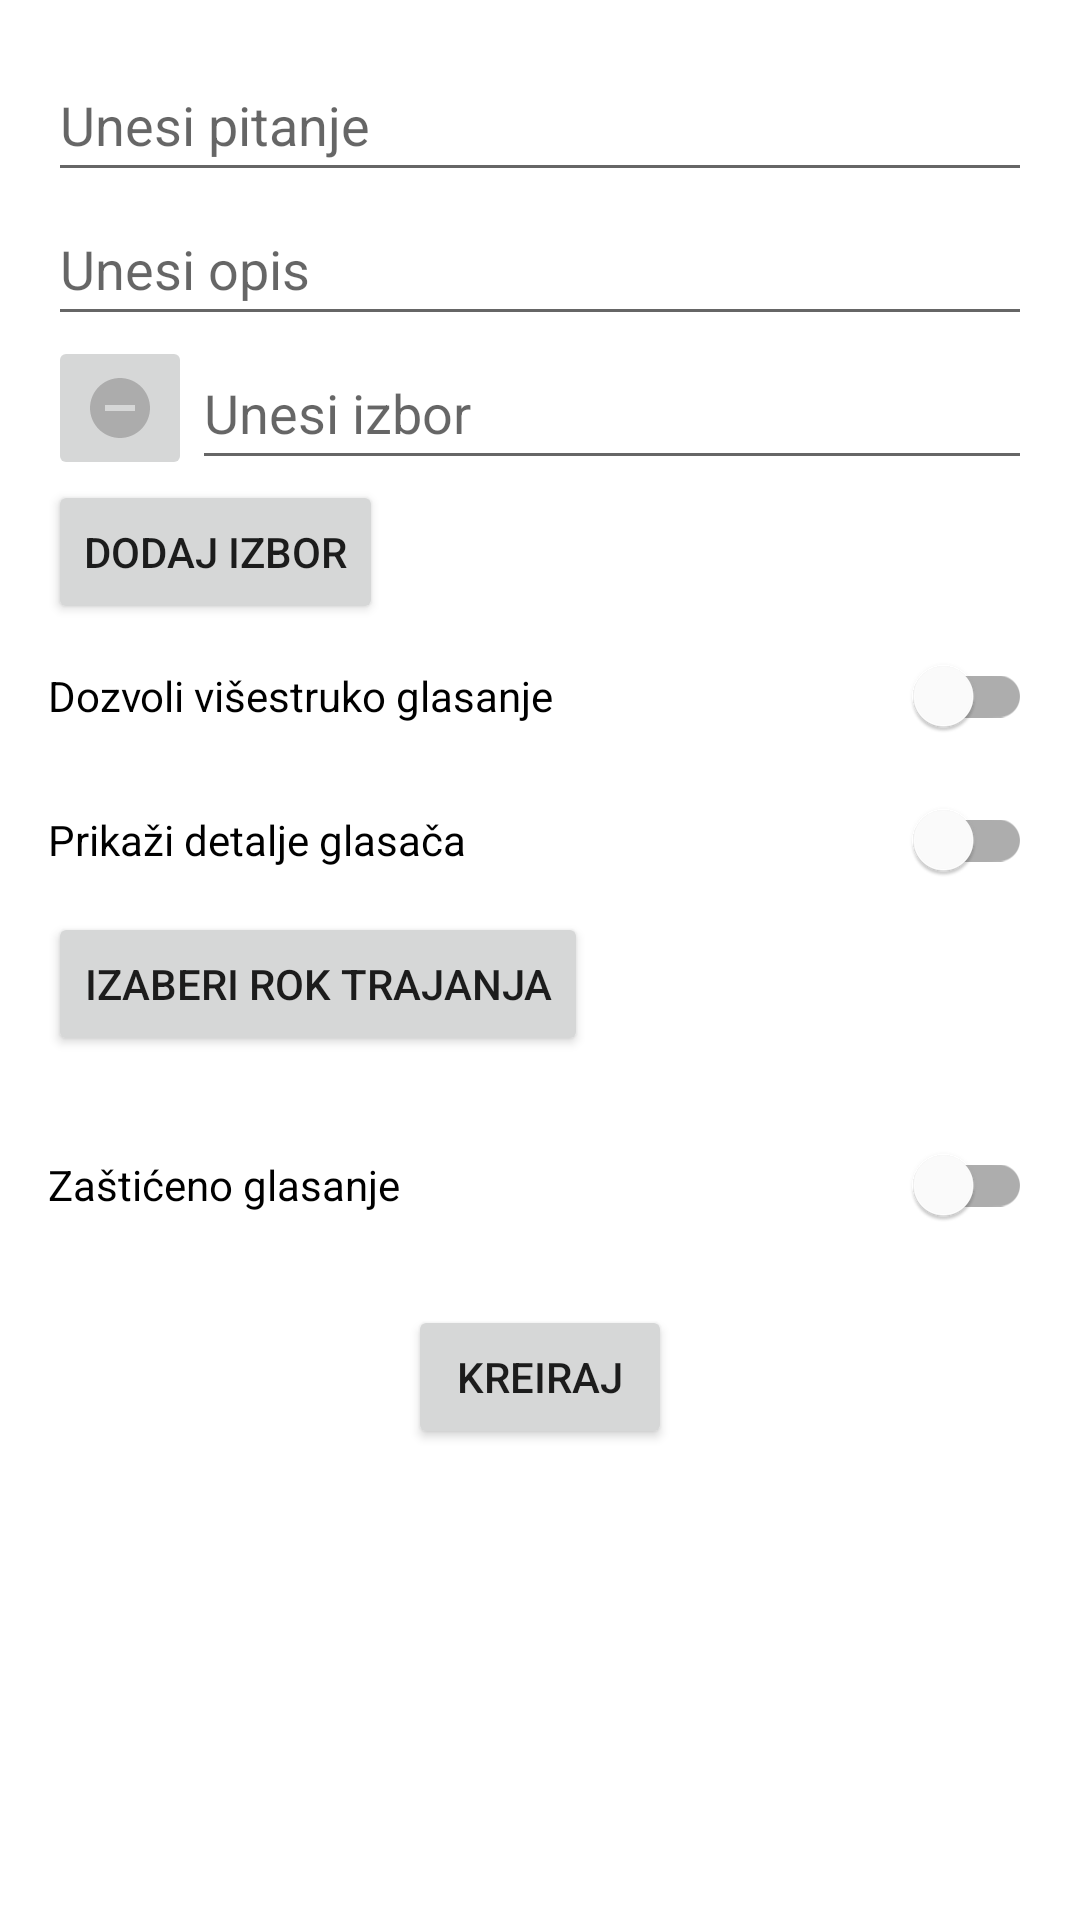

Icon bounding boxes for this 1080w x 1920h phone screenshot, format (x1, y1, x2, y2):
remove: (60, 354, 180, 462)
